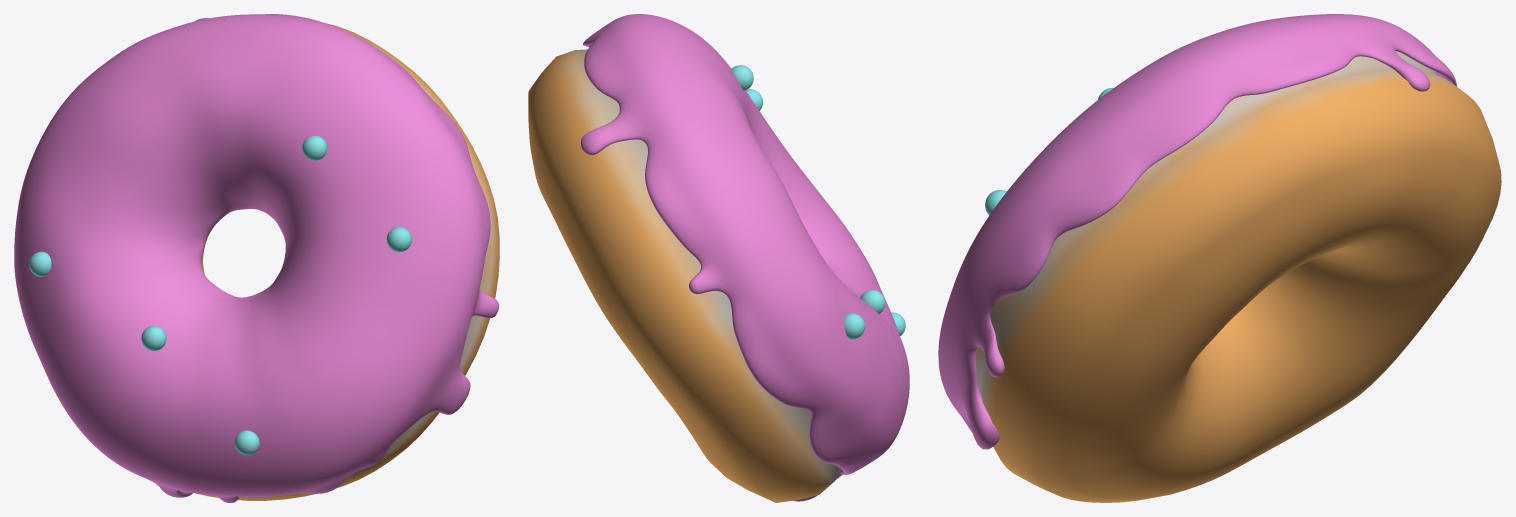
Rendered from Donut.glb.
3 views of the same model, side by side, from view 1: azimuth 30°, elevation 25°; view 2: azimuth 150°, elevation 25°; view 3: azimuth 270°, elevation 25° (orthographic). The views are drawn at different scales.
Parts seen in each view (by area): view 1: Icing, Donut; view 2: Icing, Donut, Sphere.004; view 3: Donut, Icing.
Part boxes in pixels (box(x1,y1,x2,y2)): Icing: box(14, 14, 498, 502); Donut: box(197, 24, 499, 500); Icing: box(580, 14, 909, 501); Donut: box(528, 49, 841, 502); Sphere.004: box(844, 313, 864, 339); Donut: box(975, 51, 1501, 502); Icing: box(938, 14, 1456, 449).
Size of the model in its own units: 0.0821 by 0.0904 by 0.0898.
3 materials, 1 textured.
